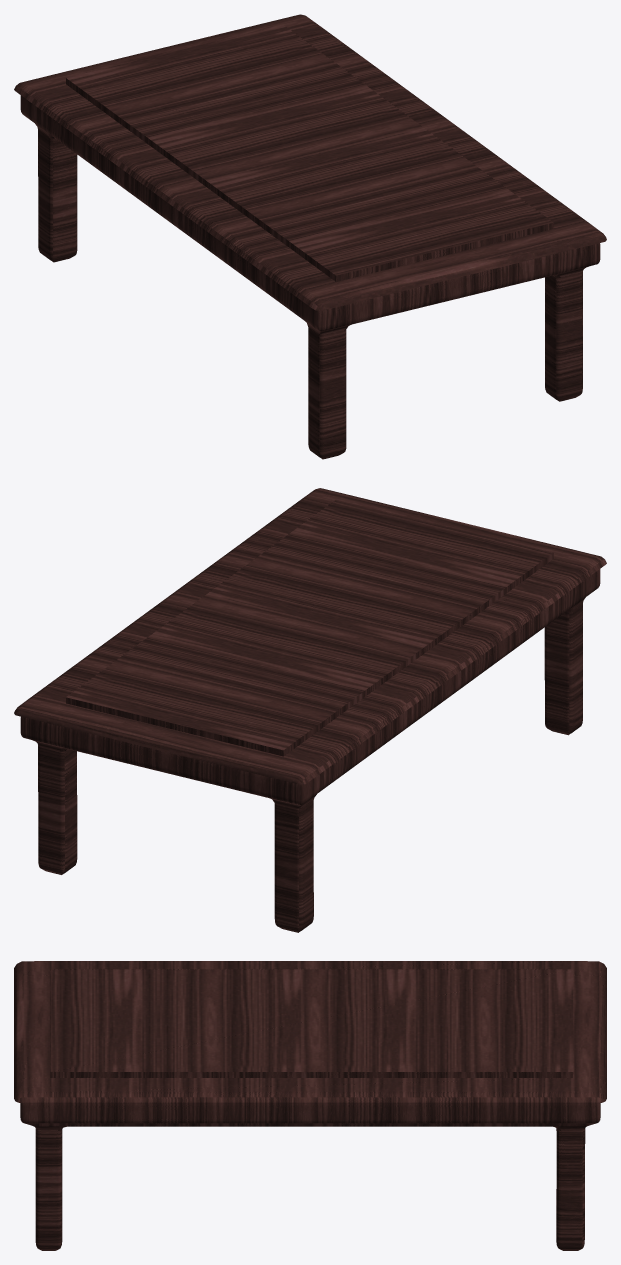
The model's file is Mesa_escritorio(textura arrumada).fbx.
3 views of the same model, one above another, from view 1: azimuth 30°, elevation 25°; view 2: azimuth 150°, elevation 25°; view 3: azimuth 270°, elevation 25° (orthographic). The views are drawn at different scales.
Parts seen in each view (by area): view 1: mesa_escritorio; view 2: mesa_escritorio; view 3: mesa_escritorio.
Boxes of the visible parts, x1,y1,x2,y2 form: mesa_escritorio: (14, 14, 606, 459); mesa_escritorio: (14, 488, 606, 932); mesa_escritorio: (14, 961, 606, 1250).
Size of the model in its own units: 7.37 by 4.23 by 13.31.
1 material, 1 textured.
